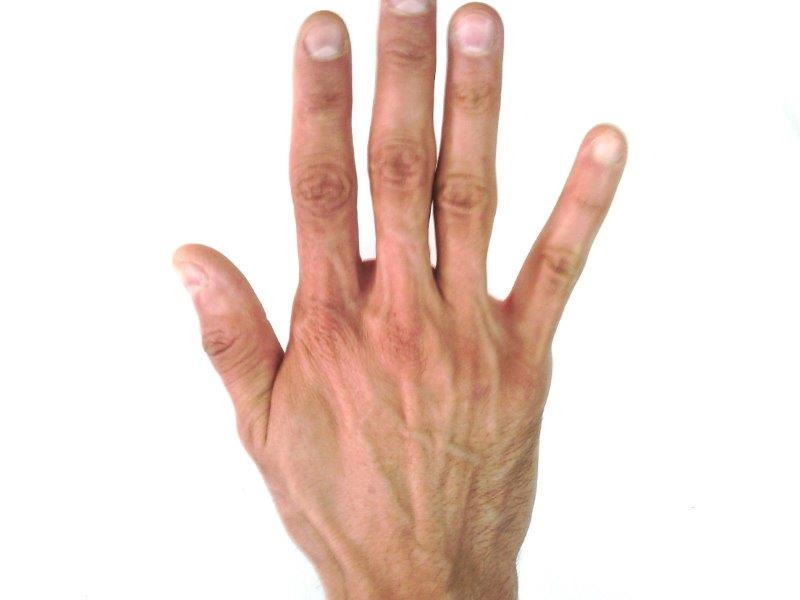hand: (174, 1, 628, 599)
